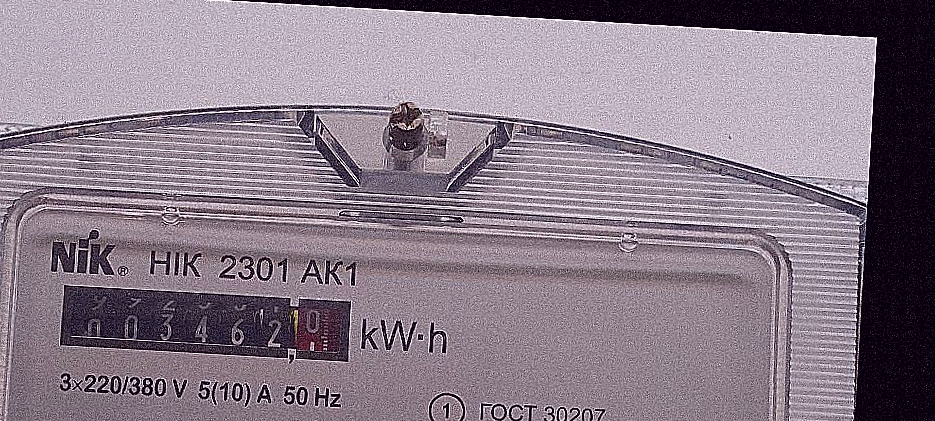0: (120, 311, 140, 341), (303, 306, 322, 335), (82, 314, 103, 339)
2: (264, 316, 284, 349)
3: (155, 311, 175, 344)
4: (192, 312, 211, 345)
6: (226, 314, 248, 349)
9: (87, 293, 108, 313)
screen: (46, 272, 363, 380)
